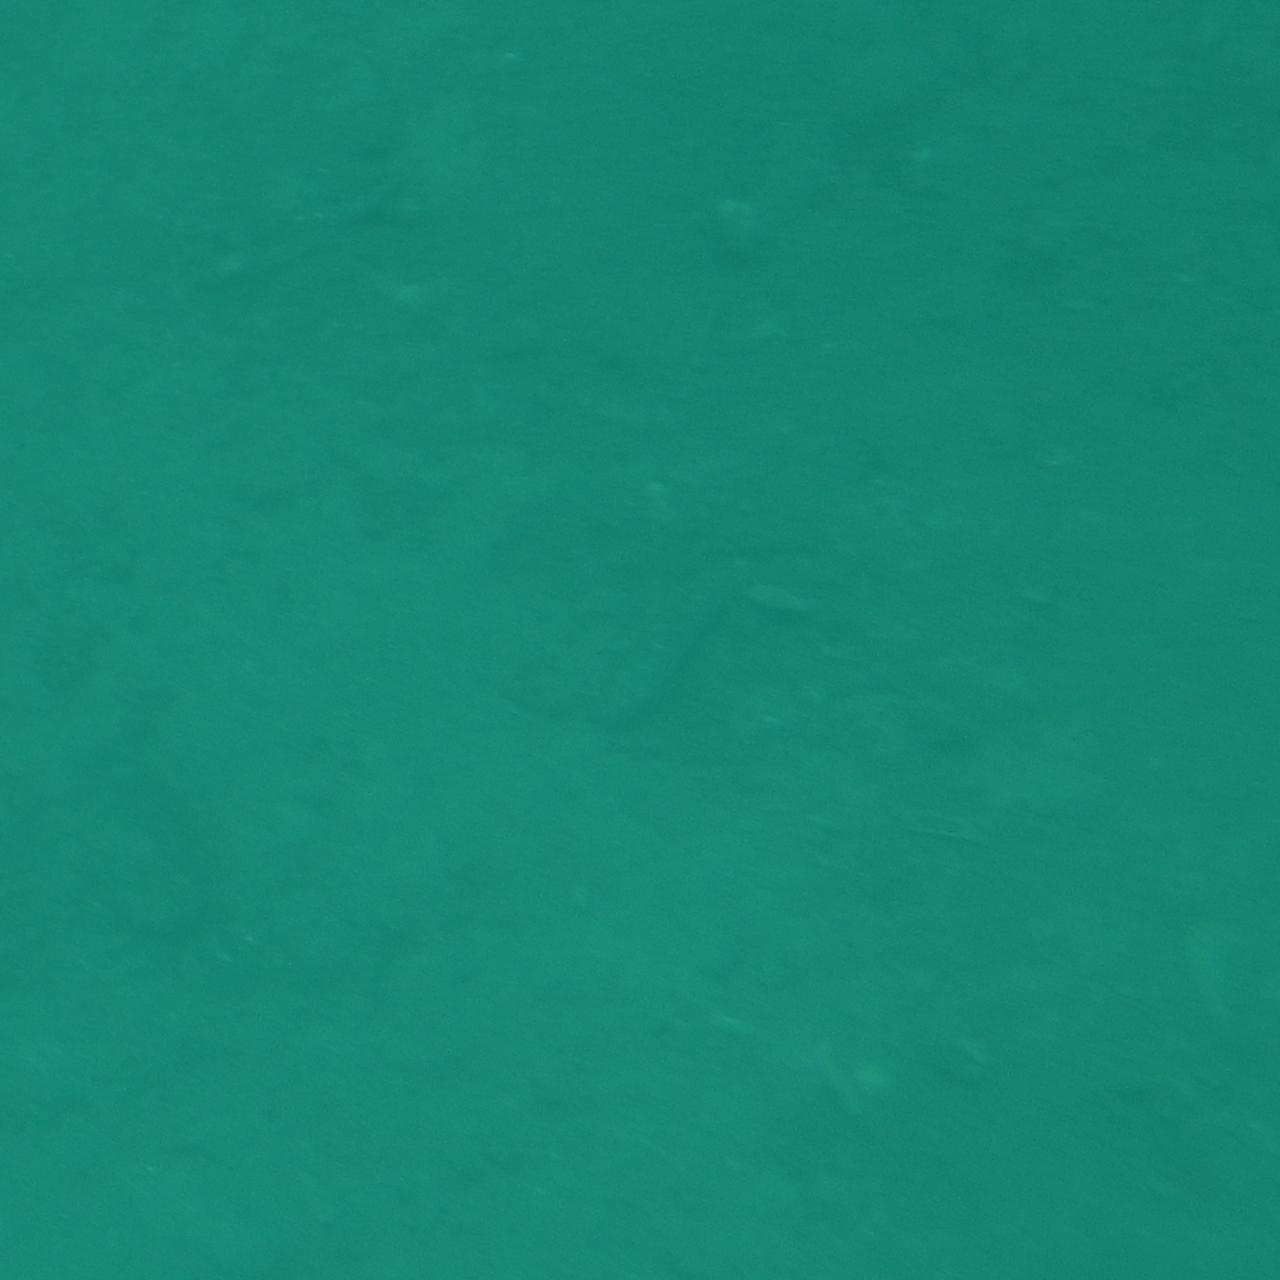Holothuria tubulosa: (578, 522, 856, 758)
